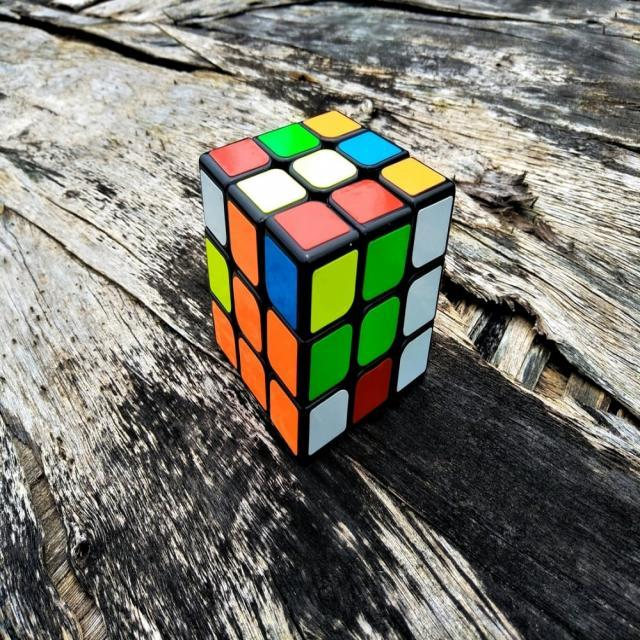Rub: (198, 110, 456, 462)
